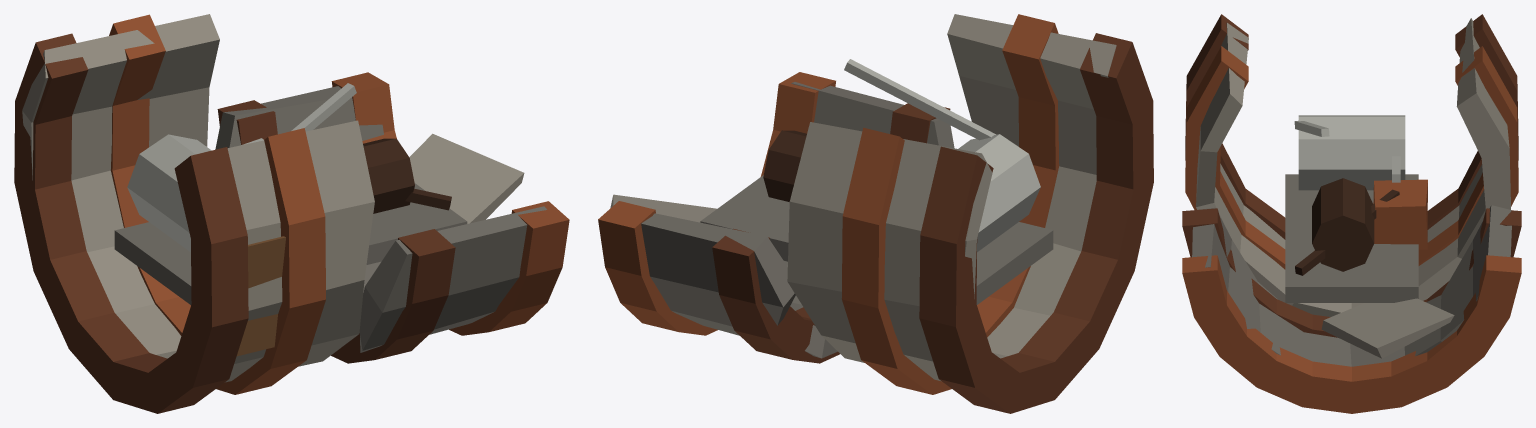
The model's file is engine_section.glb.
3 renders of one model, left to right at view 1: azimuth 30°, elevation 25°; view 2: azimuth 150°, elevation 25°; view 3: azimuth 270°, elevation 25°, orthographic. The views are drawn at different scales.
Parts seen in each view (by area): view 1: engine_section; view 2: engine_section; view 3: engine_section.
Boxes of the visible parts, left/top/right/bottom form: engine_section: left=14, top=14, right=569, bottom=413; engine_section: left=598, top=14, right=1153, bottom=413; engine_section: left=1182, top=14, right=1521, bottom=413.
Size of the model in its own units: 4.7 by 3.15 by 3.83.
